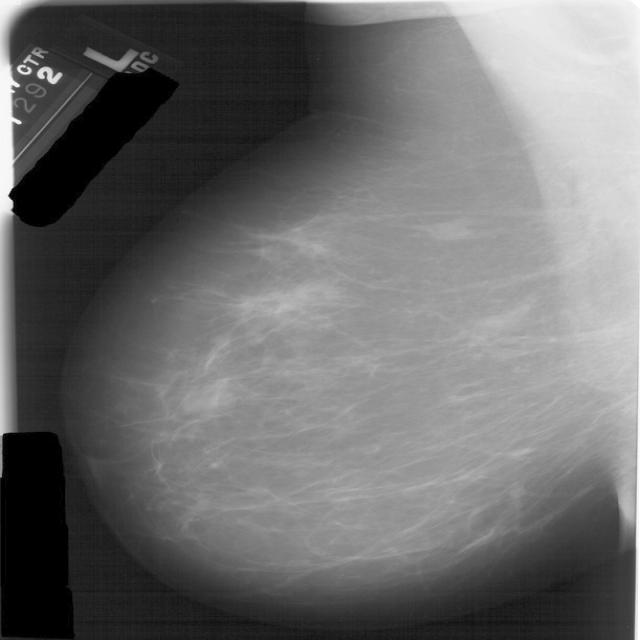tumour: (179, 385, 232, 415)
